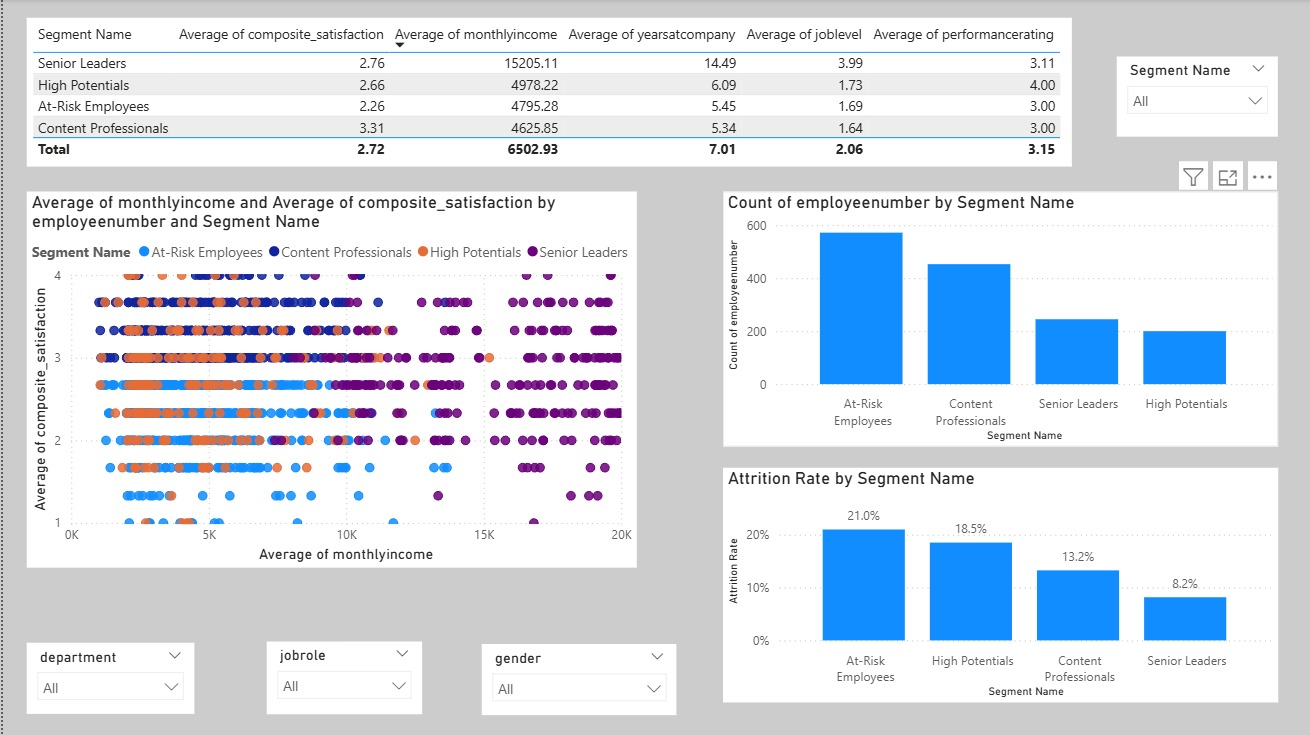

Layout of this report page (visuals, bound fields, positions):
{"tool":"powerbi","page":{"name":"04_Workforce_Segmentation","canvas":[1280,720],"ordinal":3},"visuals":[{"type":"scatterChart","fields":{"X":["Avg(hr_data_with_predictions.monthlyincome)"],"Y":["Avg(hr_data_with_predictions.composite_satisfaction)"],"Category":["hr_data_with_predictions.employeenumber"],"Series":["hr_data_with_predictions.Segment Name"]},"box":[23.2,188.3,596.7,368.1],"z":0},{"type":"columnChart","fields":{"Category":["hr_data_with_predictions.Segment Name"],"Y":["Count(hr_data_with_predictions.employeenumber)"]},"box":[704.4,188.3,542.9,249.5],"z":1000},{"type":"columnChart","fields":{"Category":["hr_data_with_predictions.Segment Name"],"Y":["hr_data_with_predictions.Attrition Rate"]},"box":[704.4,458.6,542.9,229.9],"z":2000},{"type":"slicer","fields":{"Values":["hr_data_with_predictions.Segment Name"]},"box":[1089.5,56.3,157.7,78.3],"z":3000},{"type":"tableEx","fields":{"Values":["hr_data_with_predictions.Segment Name","Avg(hr_data_with_predictions.composite_satisfaction)","Avg(hr_data_with_predictions.monthlyincome)","Avg(hr_data_with_predictions.yearsatcompany)","Avg(hr_data_with_predictions.joblevel)","Avg(hr_data_with_predictions.performancerating)"]},"box":[23.2,18.3,1022.3,145.5],"z":4000},{"type":"slicer","fields":{"Values":["hr_data_with_predictions.department"]},"box":[23.2,629.8,163.9,69.7],"z":5000},{"type":"slicer","fields":{"Values":["hr_data_with_predictions.jobrole"]},"box":[258,628.5,151.6,70.9],"z":6000},{"type":"slicer","fields":{"Values":["hr_data_with_predictions.gender"]},"box":[468.3,631,190.8,69.7],"z":7000}]}

Visuals, with their boxes in screenshot pixels (x1, y1, x2, y2), scaled from the page's 1280x720 canvas onto the 1310x735 screenshot:
scatterChart - Avg(hr_data_with_predictions.monthlyincome) x Avg(hr_data_with_predictions.composite_satisfaction): BBox(24, 192, 634, 568)
columnChart - hr_data_with_predictions.Segment Name x Count(hr_data_with_predictions.employeenumber): BBox(721, 192, 1277, 447)
columnChart - hr_data_with_predictions.Segment Name x hr_data_with_predictions.Attrition Rate: BBox(721, 468, 1277, 703)
slicer - hr_data_with_predictions.Segment Name: BBox(1115, 57, 1276, 137)
tableEx - hr_data_with_predictions.Segment Name x Avg(hr_data_with_predictions.composite_satisfaction): BBox(24, 19, 1070, 167)
slicer - hr_data_with_predictions.department: BBox(24, 643, 191, 714)
slicer - hr_data_with_predictions.jobrole: BBox(264, 642, 419, 714)
slicer - hr_data_with_predictions.gender: BBox(479, 644, 675, 715)
